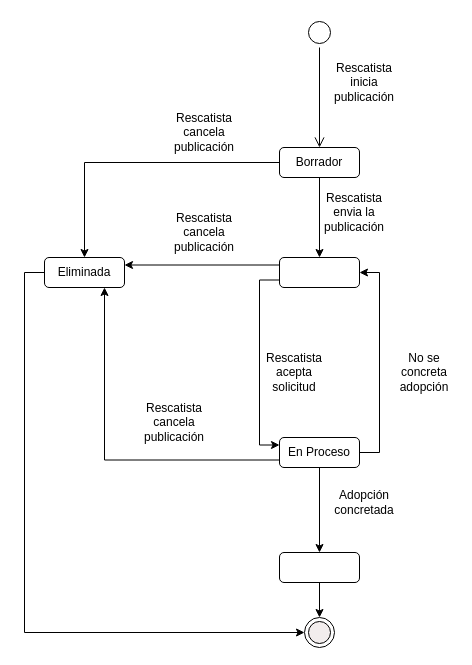
This 472x665 diagram has some shape labels left out. Each missing label, with the centre of its shape:
Adoptado: point (319, 567)
En adopción: point (319, 272)
